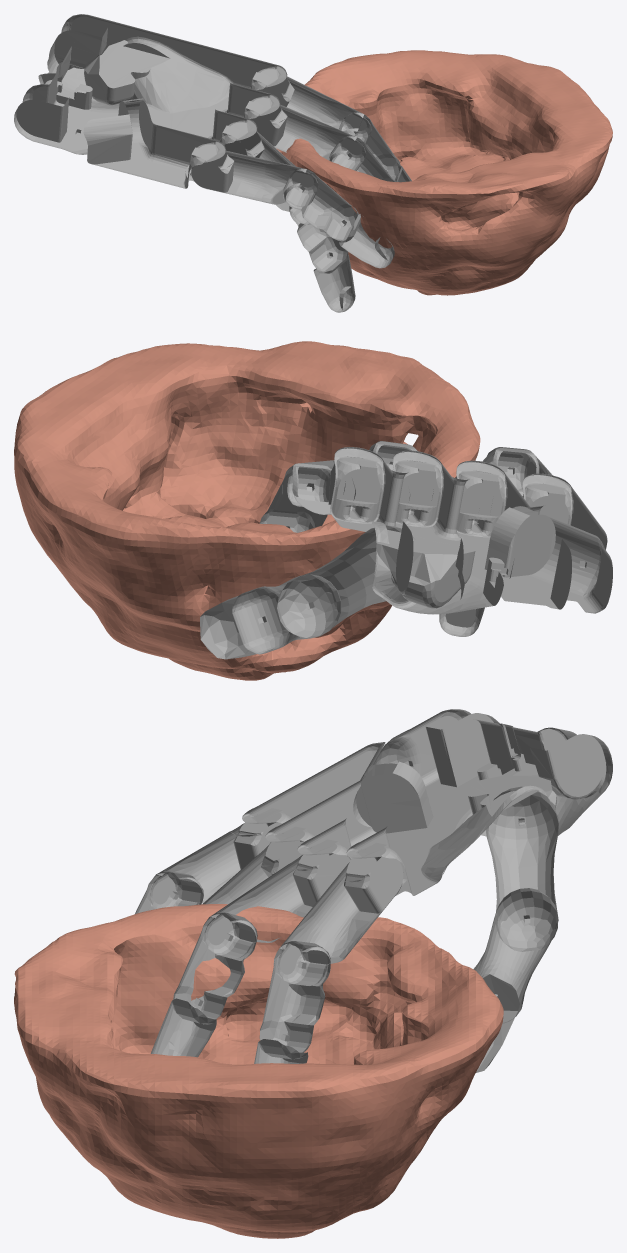
The picture shows the model from 3 angles, top to bottom: view 1: azimuth 30°, elevation 25°; view 2: azimuth 150°, elevation 25°; view 3: azimuth 270°, elevation 25°; orthographic projection. The views are drawn at different scales.
Parts seen in each view (by area): view 1: world; view 2: world; view 3: world.
Part boxes in pixels (x1,y1,x2,y2): world: [14, 14, 612, 312]; world: [14, 341, 612, 680]; world: [14, 709, 612, 1238].
Bounding box in the file's own units: 1.77 × 0.8325 × 1.37.
